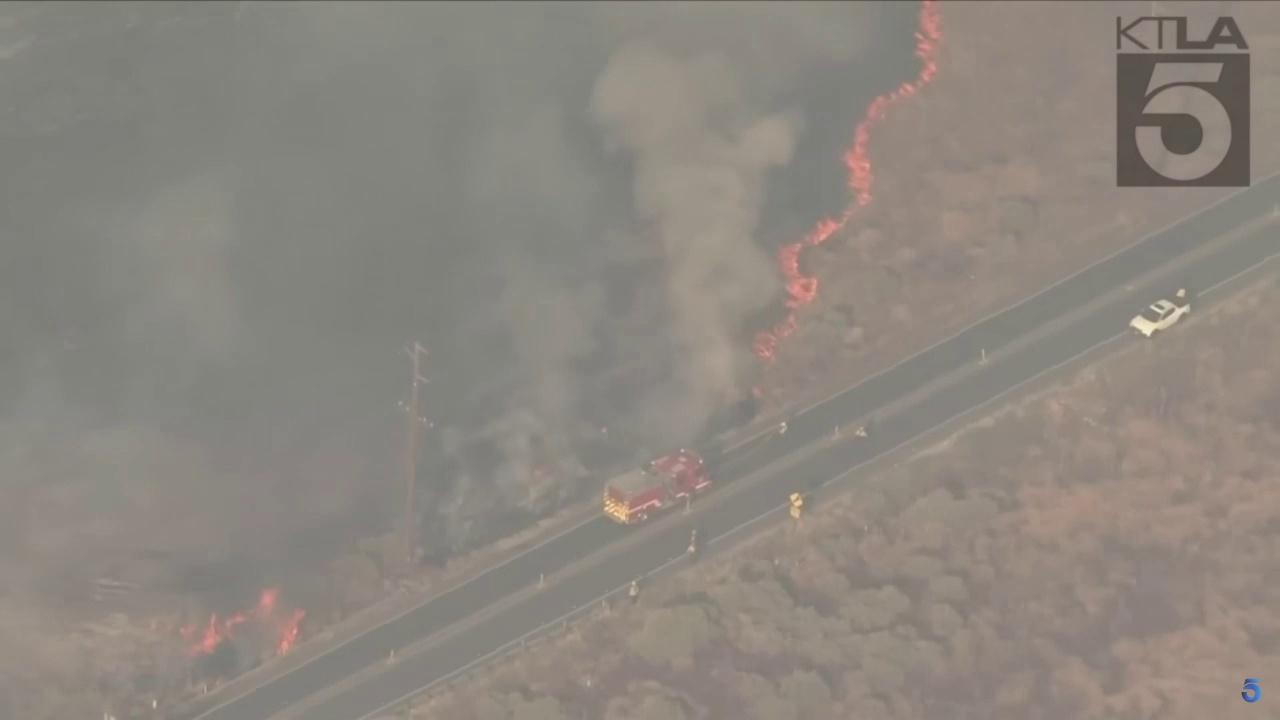fire: (747, 0, 943, 369), (177, 586, 307, 658)
smoke: (0, 0, 918, 676)
